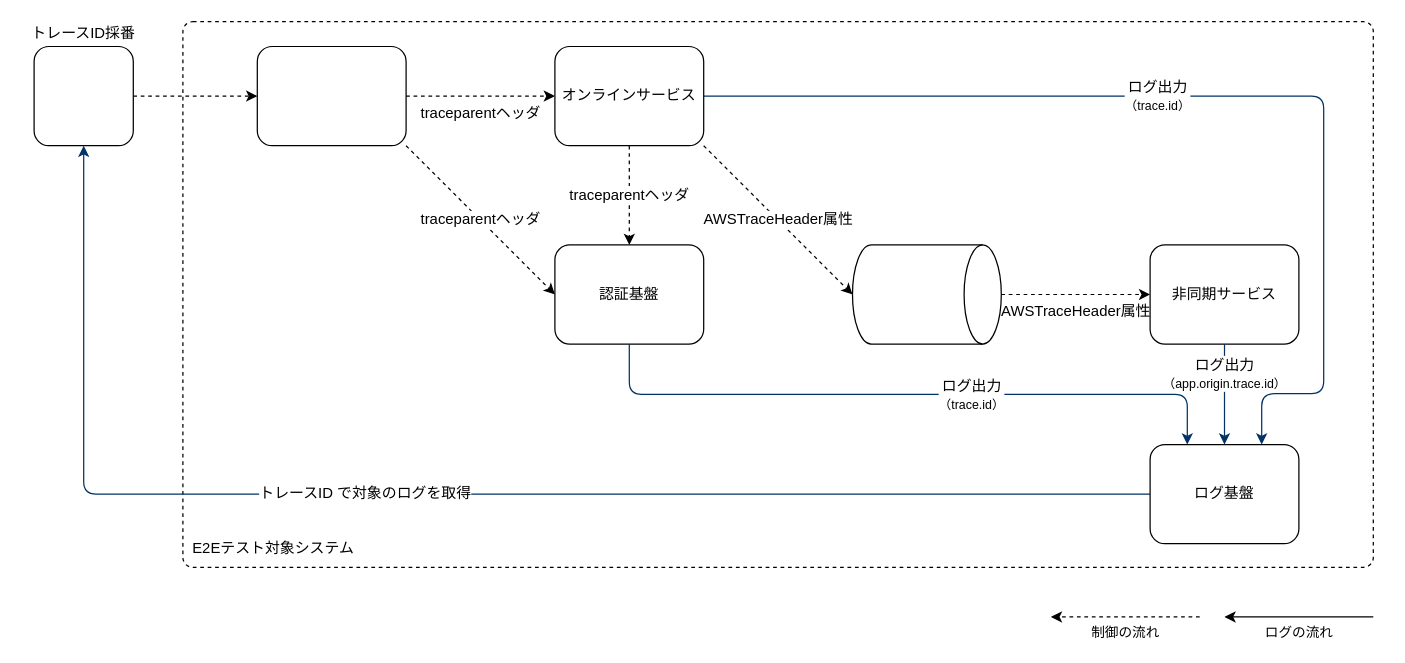
This 1405x663 diagram has some shape labels left out. Here are the shapes that lost their labels. From the top down, the centre of each, then its label:
[83,95]: Playwright
[331,95]: フロントエンド
[926,294]: メッセージング
